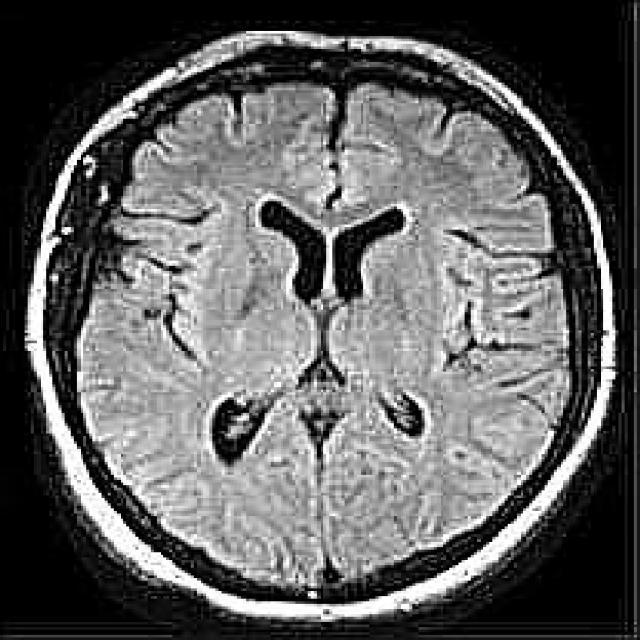notumor: (25, 31, 612, 622)
